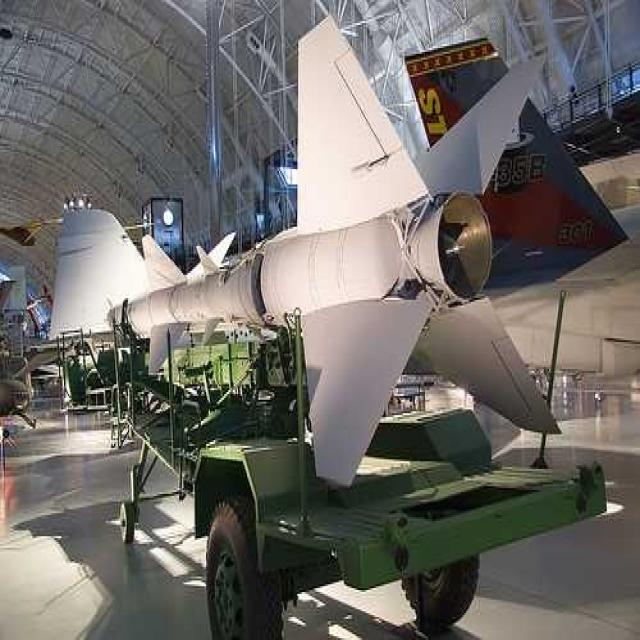missile: (103, 35, 562, 447)
